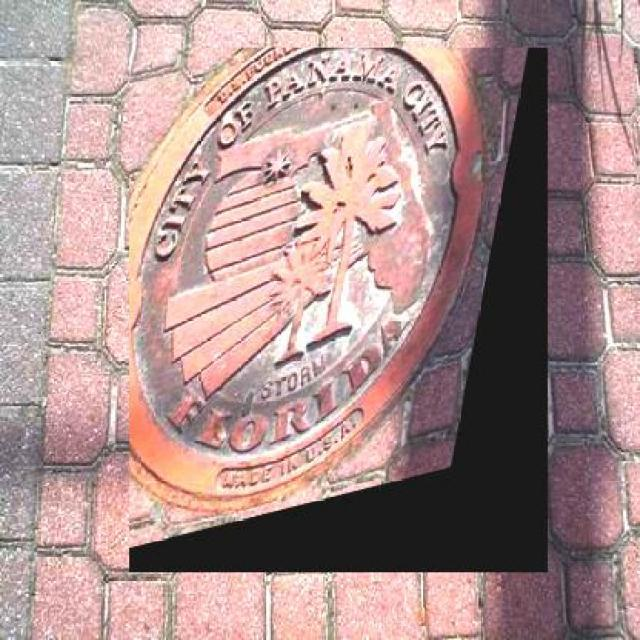Manhole: (133, 43, 552, 568)
